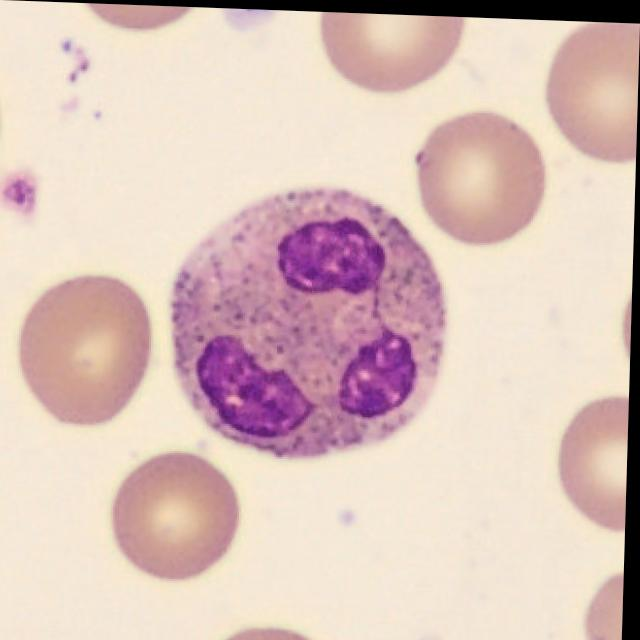Neutrofilo segmentado: (172, 184, 450, 459)
